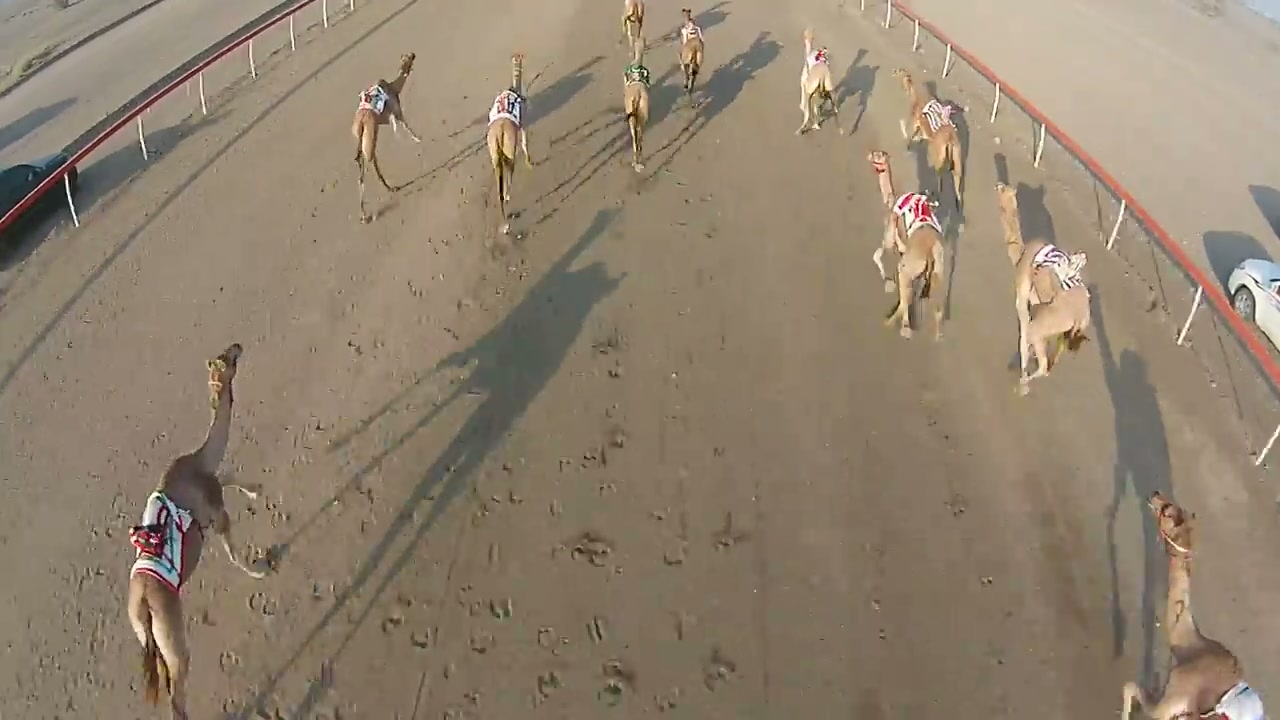animal_footprint: (200, 317, 762, 719), (255, 392, 404, 560)
